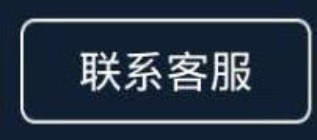Button: (1, 1, 316, 139)
